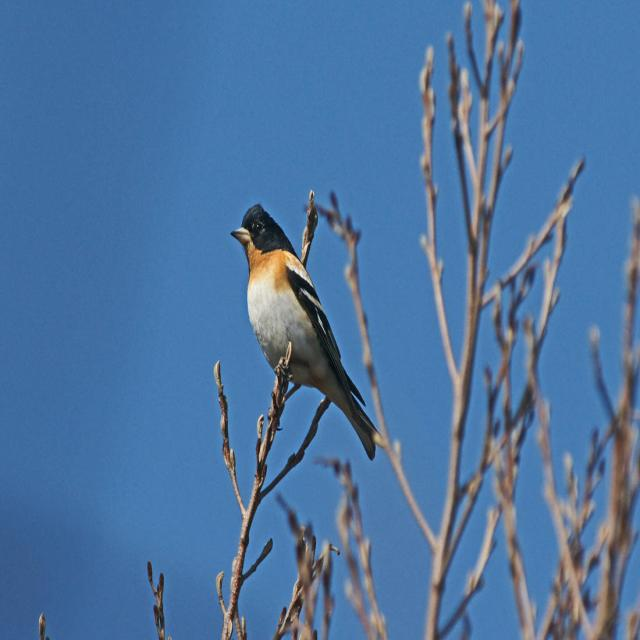bird: (231, 205, 379, 464)
